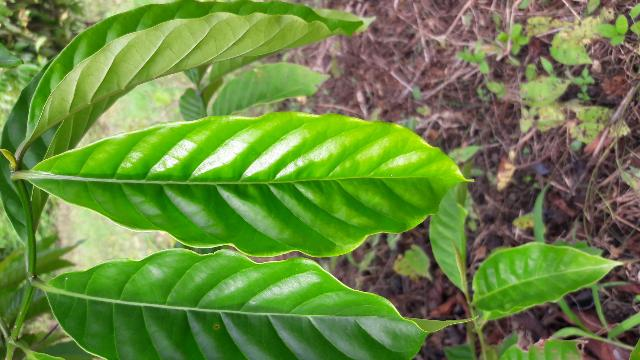healthy: (33, 114, 464, 256)
